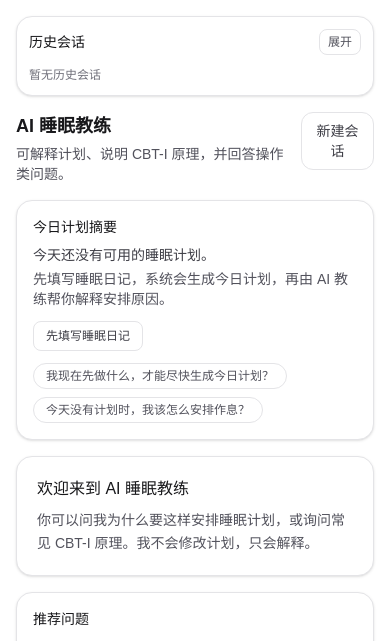
Scenario: CoachShell › 移动端折叠按钮可展开历史会话列表
The width and height of the screenshot is (390, 641).
Click the button with test id "coach-history-toggle" at (340, 42), box [319,29,361,55]
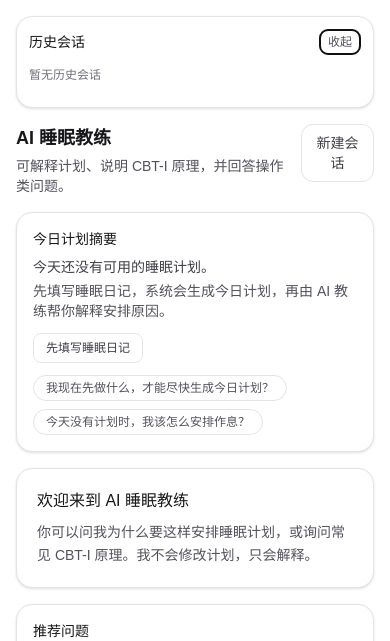
Check: the button with test id "coach-history-toggle" is expanded, box [319,29,361,55]
